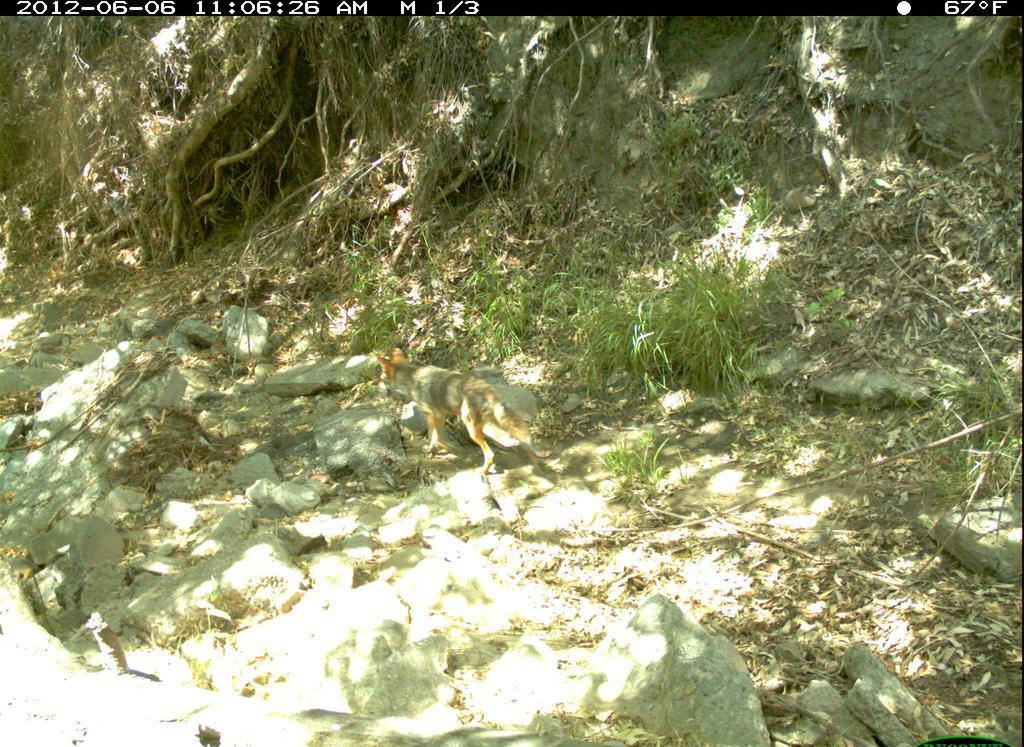coyote: (370, 340, 539, 486)
